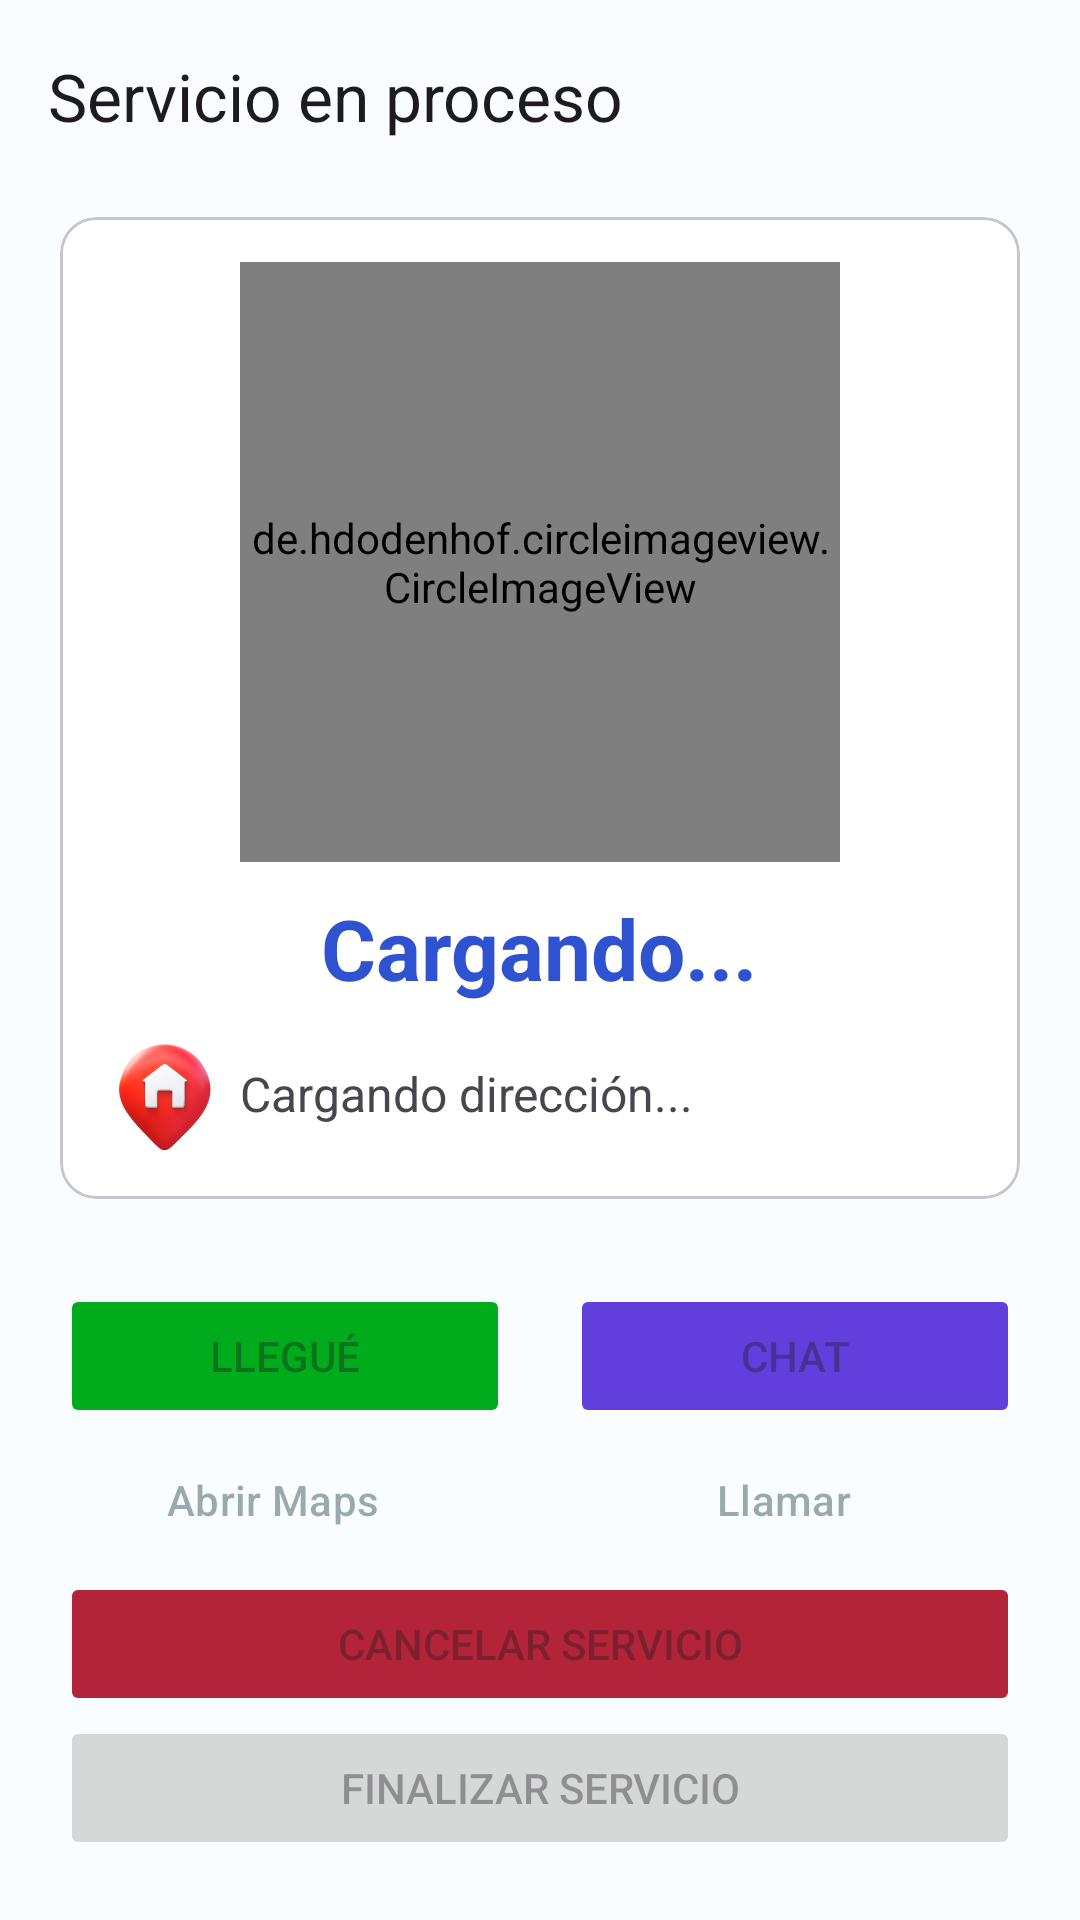

Screen size 1080px x 1920px. Icon name, then its center in pixels as [x,y]:
ilus address: [165,1097]
